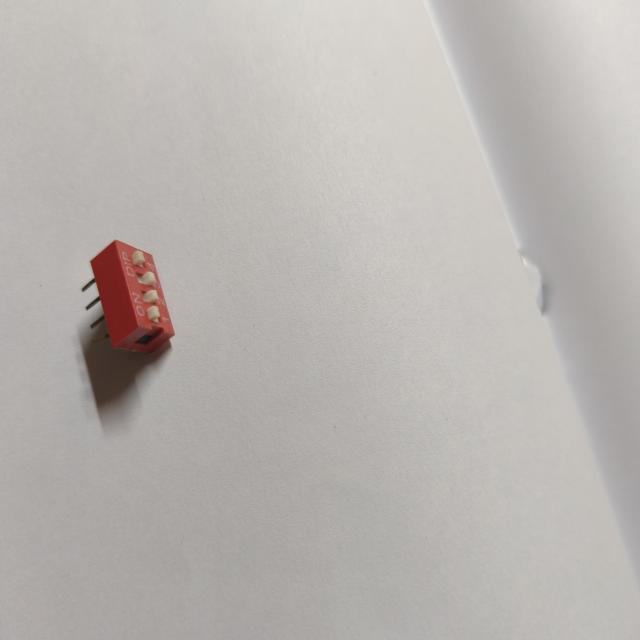switch: (78, 234, 180, 362)
